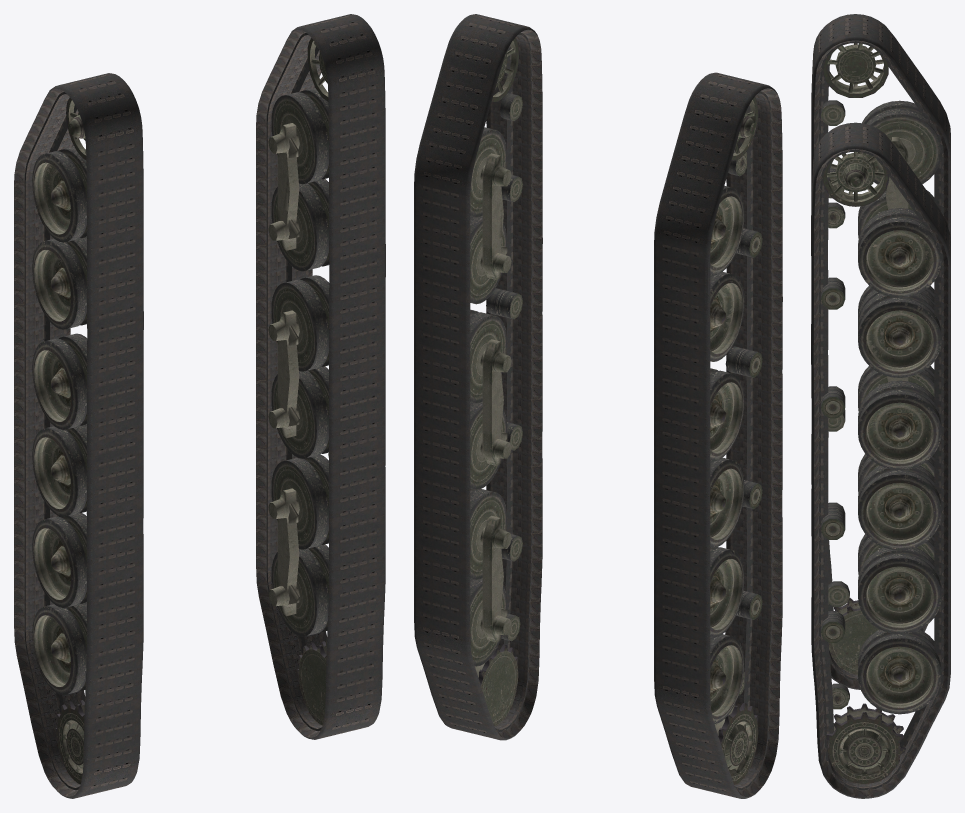
Rendered from Chassis.glb.
3 renders of one model, left to right at view 1: azimuth 30°, elevation 25°; view 2: azimuth 150°, elevation 25°; view 3: azimuth 270°, elevation 25°, orthographic. The views are drawn at different scales.
Visible parts, largest first — view 1: set_0_group_0, set_1_group_0, set_3_group_0, set_2_group_0; view 2: set_0_group_0, set_1_group_0, set_3_group_0, set_2_group_0; view 3: set_3_group_0, set_1_group_0, set_2_group_0, set_0_group_0.
Part boxes in pixels (x1,y1,x2,y2): set_0_group_0: [14, 73, 143, 798]; set_1_group_0: [256, 14, 385, 739]; set_3_group_0: [268, 38, 329, 725]; set_2_group_0: [32, 97, 87, 784]; set_0_group_0: [654, 72, 782, 798]; set_1_group_0: [414, 14, 542, 740]; set_3_group_0: [470, 37, 522, 726]; set_2_group_0: [710, 96, 762, 784]; set_3_group_0: [821, 151, 941, 783]; set_1_group_0: [811, 122, 950, 798]; set_2_group_0: [821, 43, 941, 674]; set_0_group_0: [811, 14, 950, 689].
Bounding box in the file's own units: 3.21 × 7.3 × 1.42.
Materials: 4 (4 with a texture image).
